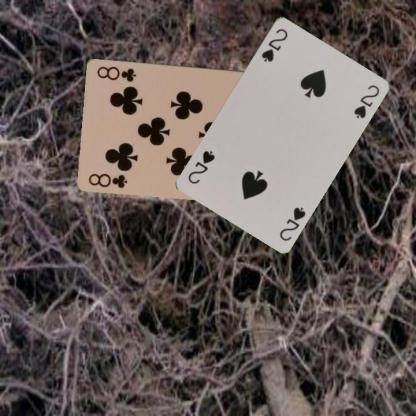2s: (258, 25, 289, 63), (277, 204, 307, 242)
8c: (86, 170, 129, 189)
